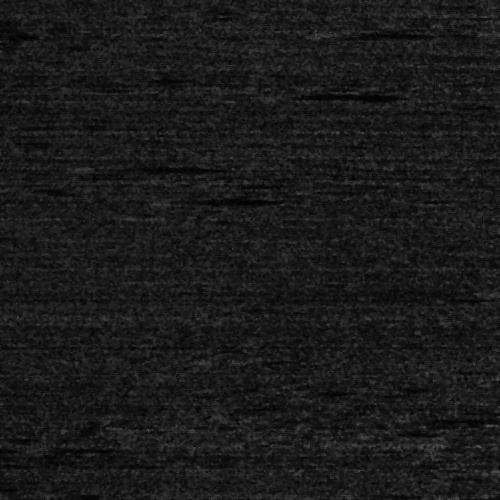object: (414, 492, 487, 500), (41, 162, 124, 169), (153, 195, 216, 202), (475, 285, 500, 298), (256, 91, 319, 96)
shadow: (83, 162, 176, 169), (185, 195, 273, 202), (288, 91, 406, 96), (450, 492, 500, 500)
